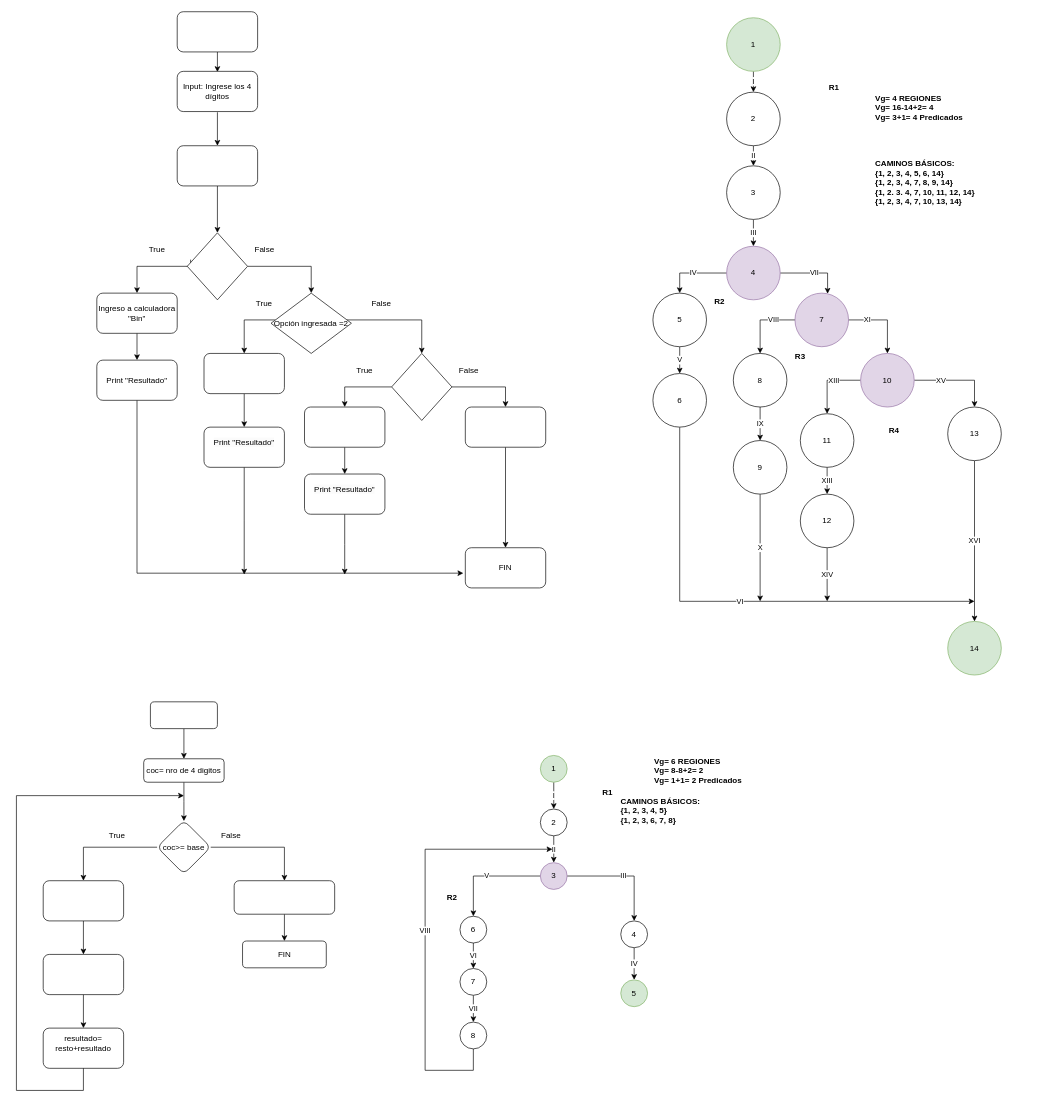
The diagram is 1060 pixels wide and 1108 high, and some of its shapes have lost their labels. The shapes that lost their labels are listed below. From the top down, each one's centre as x and y in pixels, then its label:
point 217,31: Calculadora de conversión
point 217,165: Input "Ingrese base a convertir: "
point 217,266: Opción ingresada = 1
point 243,373: Ingreso a calculadora "Hex"
point 421,386: Opción ingresada = 3
point 344,426: Ingreso a calculadora "Oct"
point 505,426: Opción ingresada = 4
point 183,715: CALCULADORA
point 83,900: resto= coc%base
point 284,897: var_resultado= coc+resultado
point 83,974: coc=coc//base
